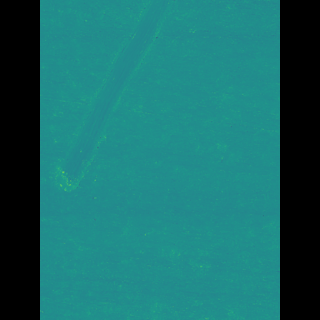Loch: (79, 0, 172, 193)
